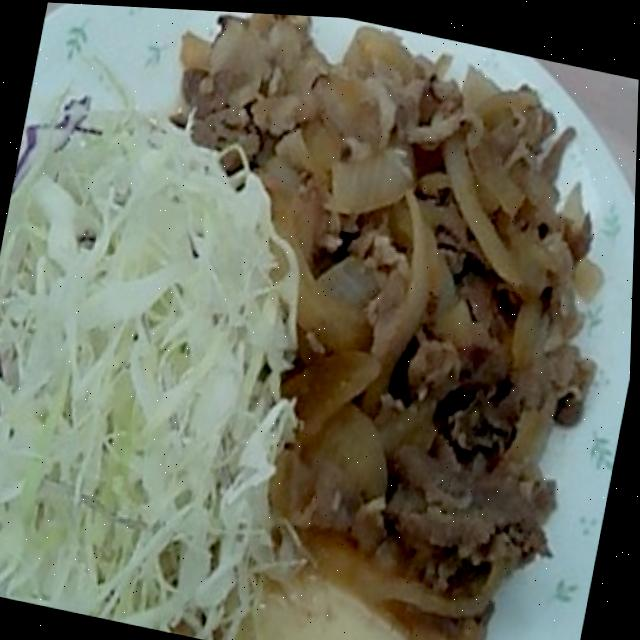猪肉菜式: (80, 4, 640, 640)
